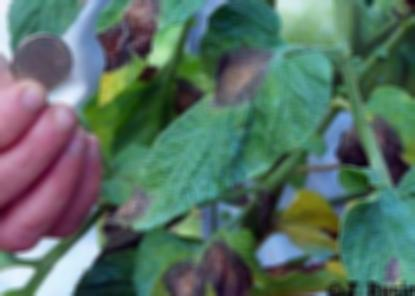Tomato leaf late blight: (99, 0, 347, 238), (82, 0, 272, 110), (327, 160, 415, 296)
